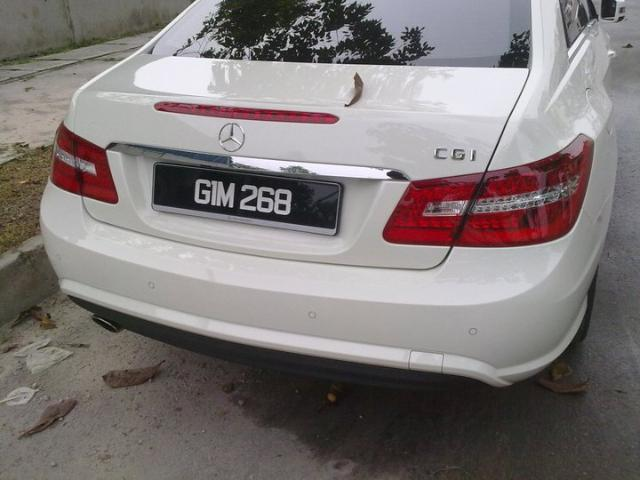License_Plate: (178, 164, 308, 228)
